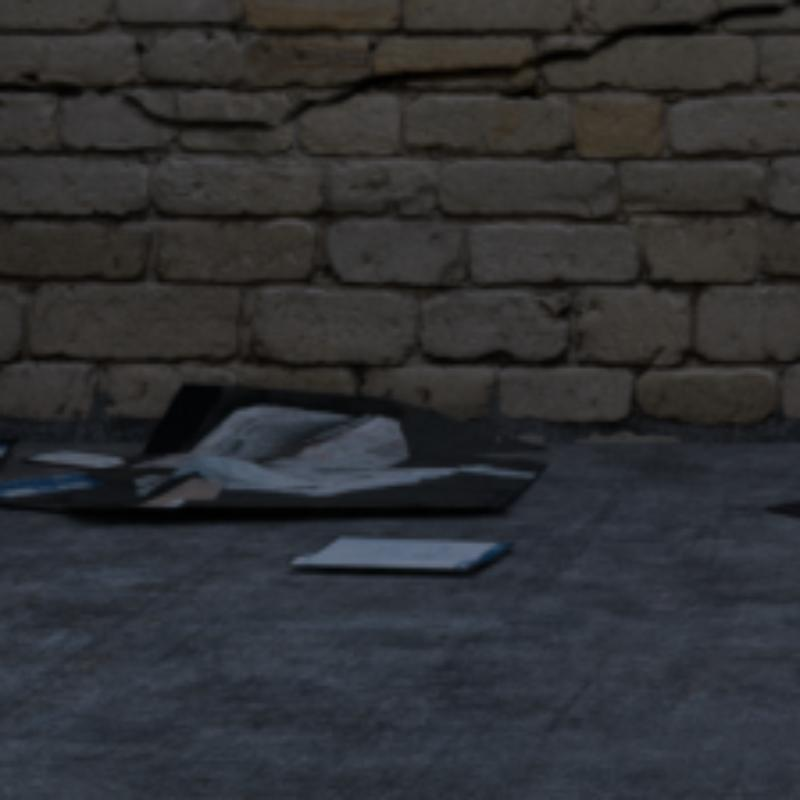crack: (0, 0, 796, 132)
